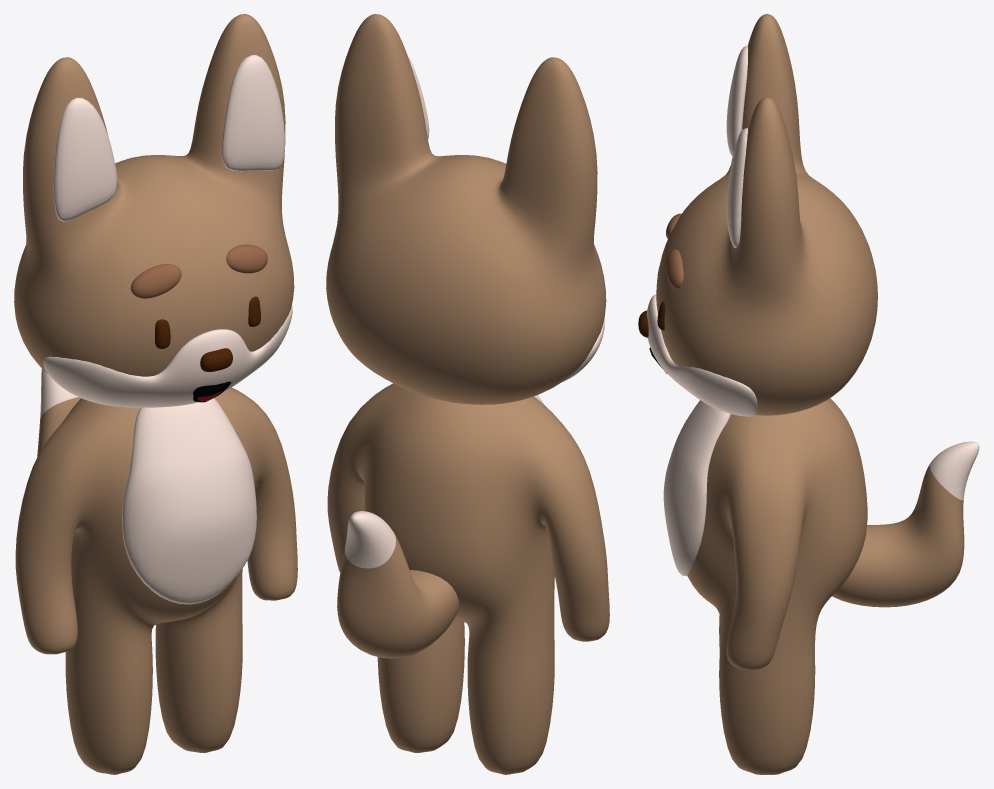
Rendered from mouth.glb.
3 views of the same model, side by side, from view 1: azimuth 30°, elevation 25°; view 2: azimuth 150°, elevation 25°; view 3: azimuth 270°, elevation 25° (orthographic). The views are drawn at different scales.
Visible parts, largest first — view 1: Cube.001, Cube, Cube.004, Cube.003, Cube.002, Cube.006, Cube.008, Cube.005, Cube.007; view 2: Cube, Cube.001, Cube.008; view 3: Cube, Cube.001, Cube.008, Cube.004, Cube.002, Cube.003, Cube.006.
Boxes of the visible parts, bbox=[...] form: Cube.001: bbox=[15, 387, 297, 774]; Cube: bbox=[14, 14, 294, 376]; Cube.004: bbox=[122, 398, 256, 604]; Cube.003: bbox=[53, 55, 284, 221]; Cube.002: bbox=[43, 305, 292, 407]; Cube.006: bbox=[130, 244, 267, 298]; Cube.008: bbox=[37, 369, 80, 457]; Cube.005: bbox=[155, 296, 260, 348]; Cube.007: bbox=[200, 348, 232, 371]; Cube: bbox=[326, 14, 606, 404]; Cube.001: bbox=[327, 383, 609, 774]; Cube.008: bbox=[337, 511, 459, 658]; Cube: bbox=[656, 14, 877, 415]; Cube.001: bbox=[687, 398, 867, 774]; Cube.008: bbox=[832, 441, 979, 607]; Cube.004: bbox=[663, 400, 730, 575]; Cube.002: bbox=[646, 294, 757, 416]; Cube.003: bbox=[726, 46, 747, 248]; Cube.006: bbox=[666, 213, 683, 289].
Bounding box in the file's own units: 2.18 × 5.51 × 2.47.
6 materials, 2 textured.
